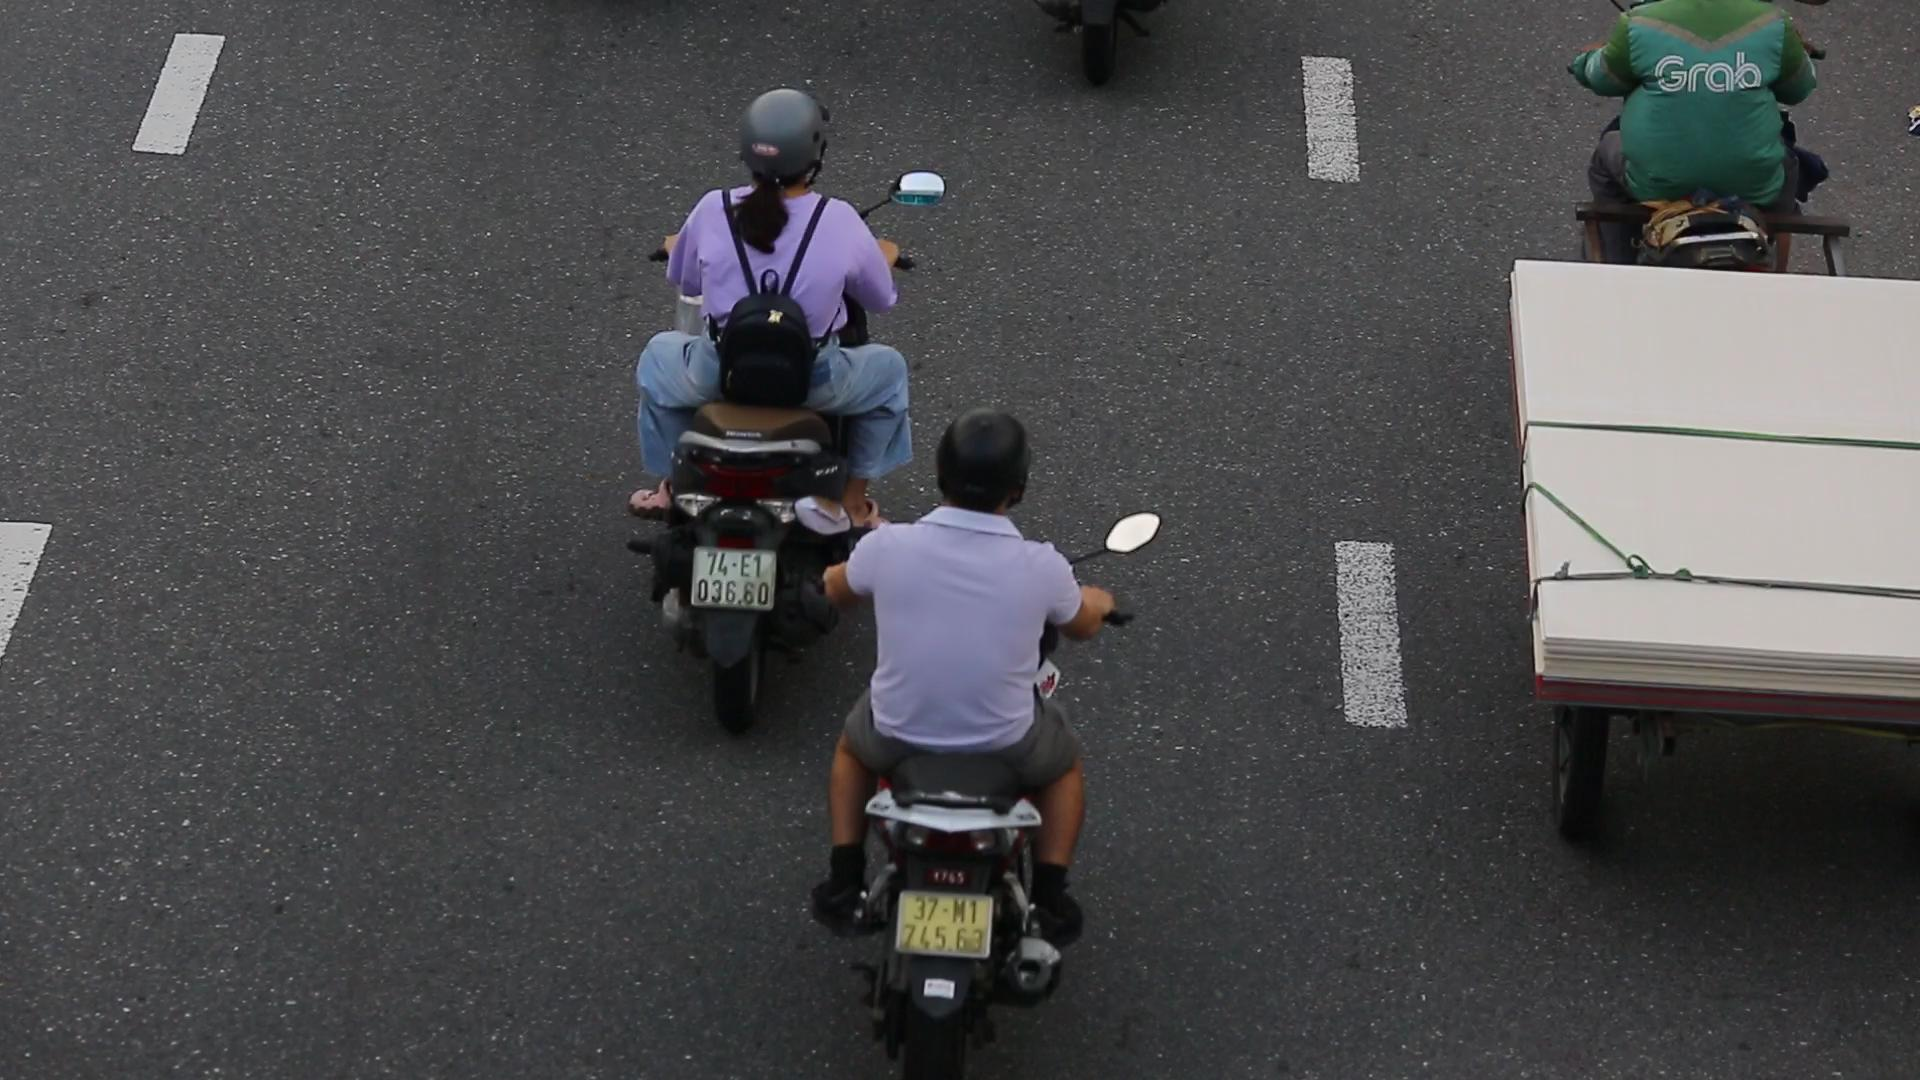motobike: (840, 423, 1154, 1072), (625, 65, 889, 673)
